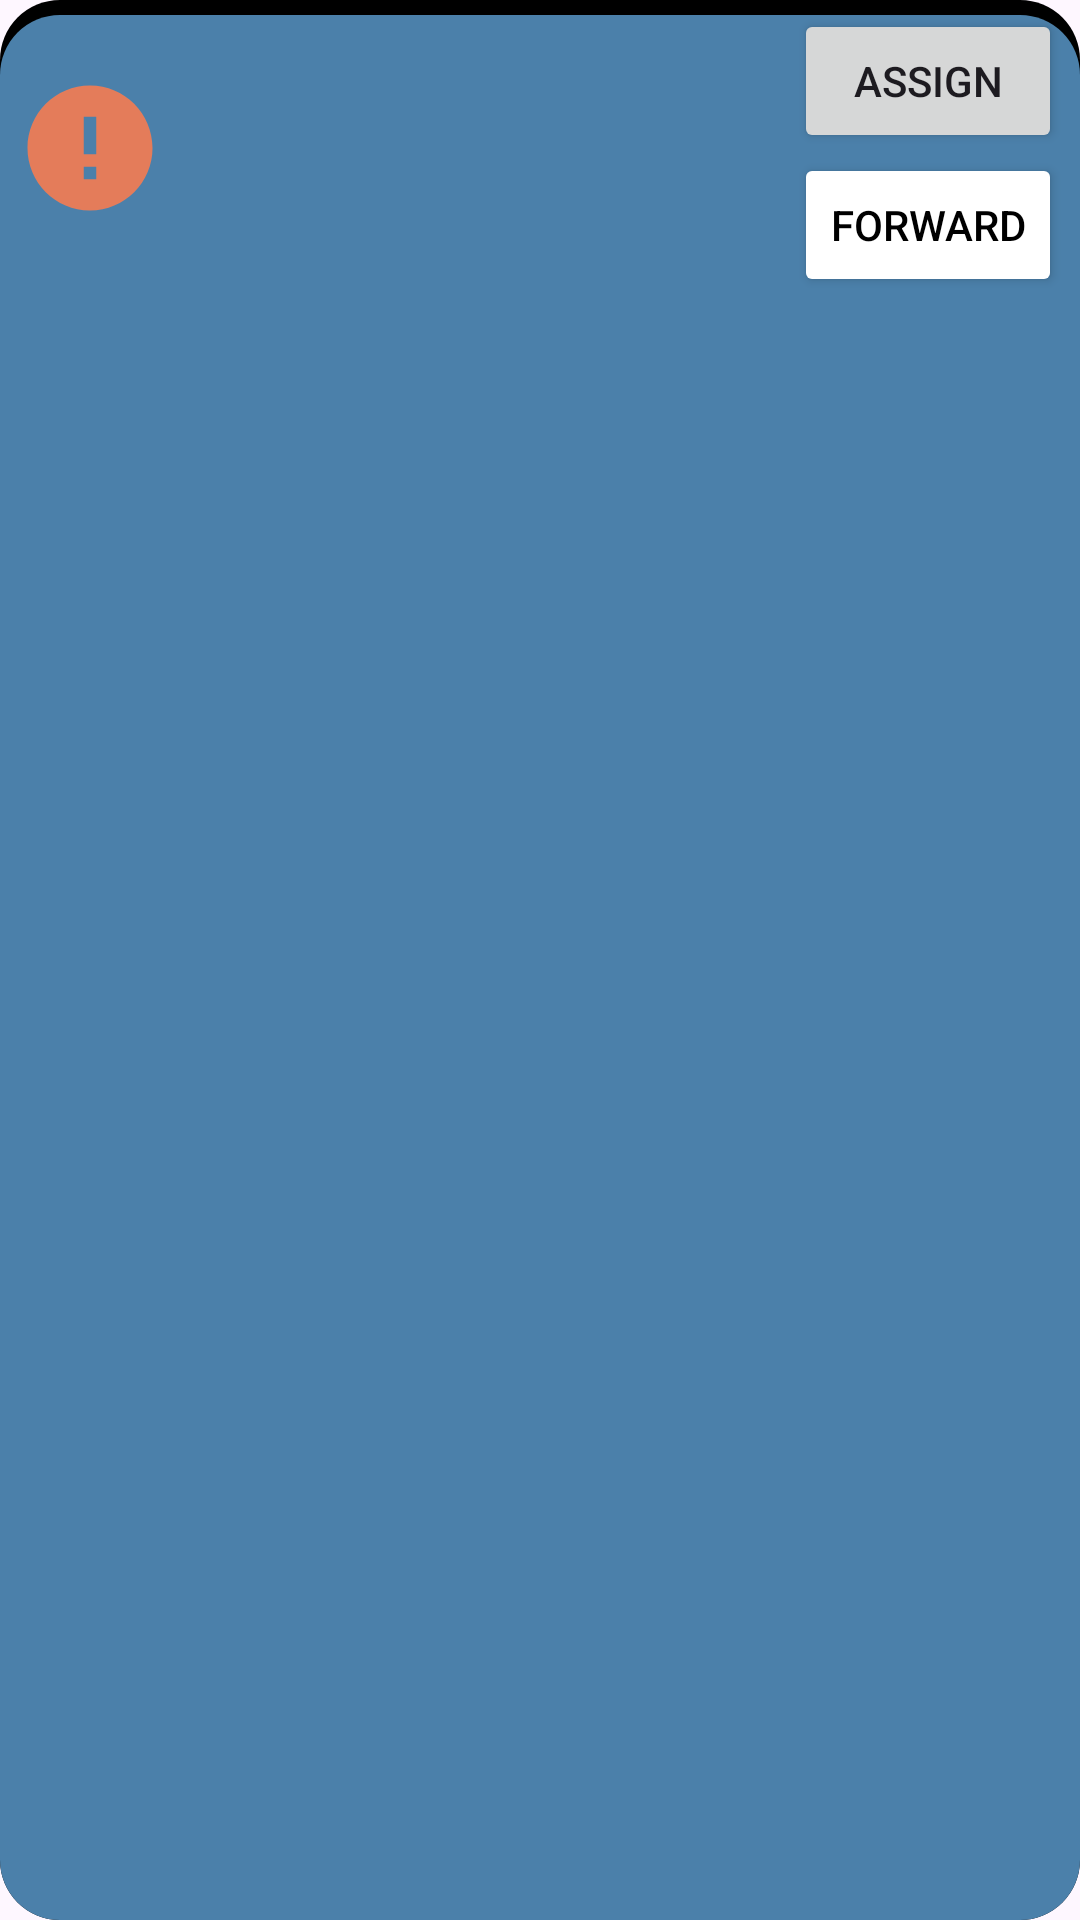

Named icons in this screenshot (1080px×1920px) and their centers, (x,y):
error: (90,148)
